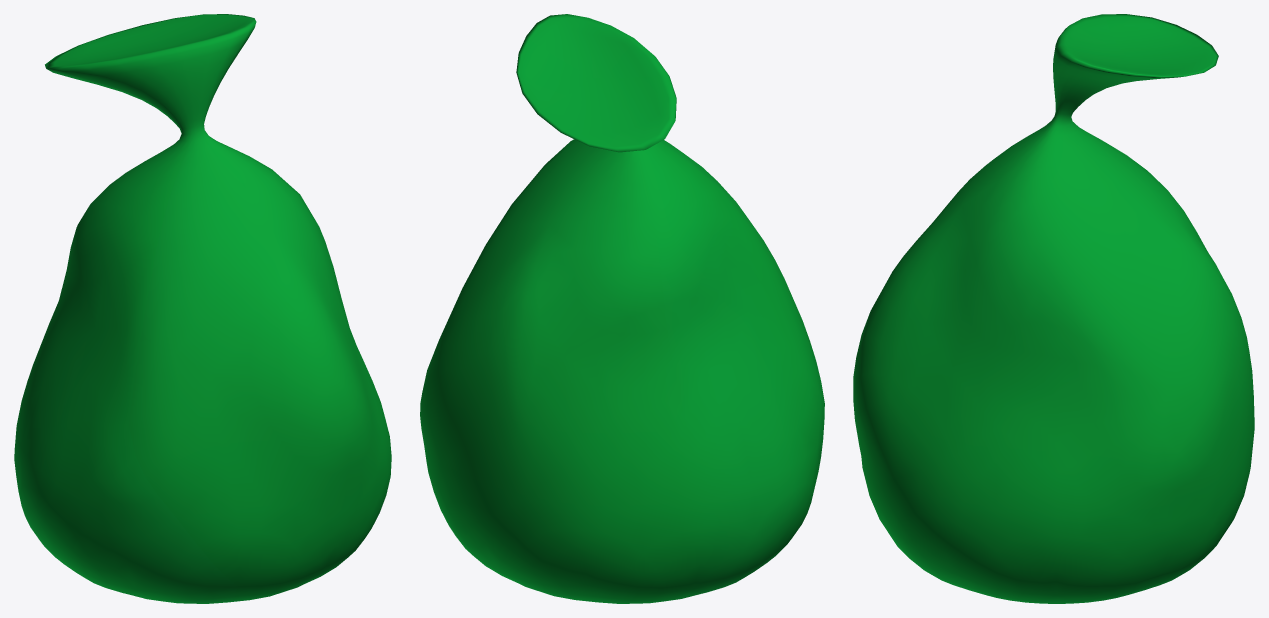
File: GarbageBag_02.fbx
3 views of the same model, side by side, from view 1: azimuth 30°, elevation 25°; view 2: azimuth 150°, elevation 25°; view 3: azimuth 270°, elevation 25° (orthographic). The views are drawn at different scales.
Visible parts, largest first — view 1: GarbageBag_02; view 2: GarbageBag_02; view 3: GarbageBag_02.
Boxes of the visible parts, <box> form: GarbageBag_02: <box>14,14,391,603</box>; GarbageBag_02: <box>420,14,824,603</box>; GarbageBag_02: <box>853,14,1254,603</box>.
Bounding box in the file's own units: 1.28 × 1.32 × 1.94.
